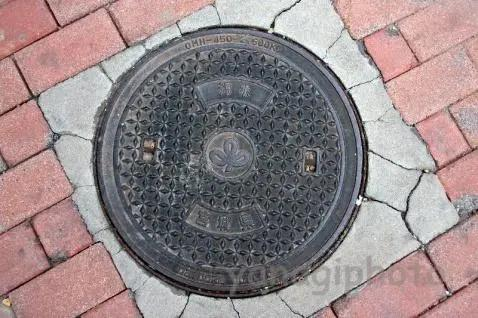wellcover: (75, 18, 385, 300)
